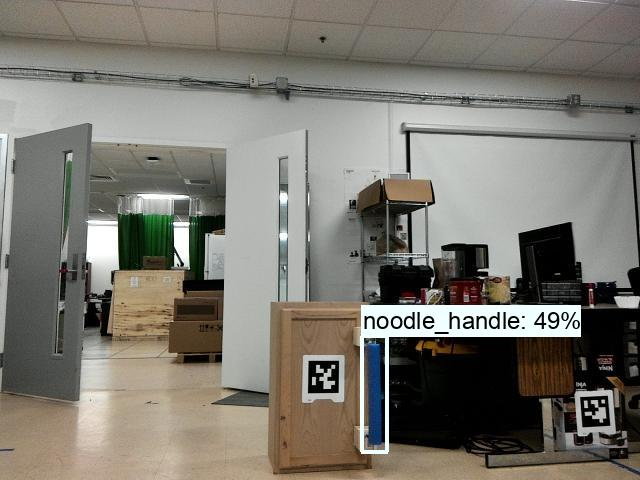noodle_handle: (360, 339, 386, 450)
